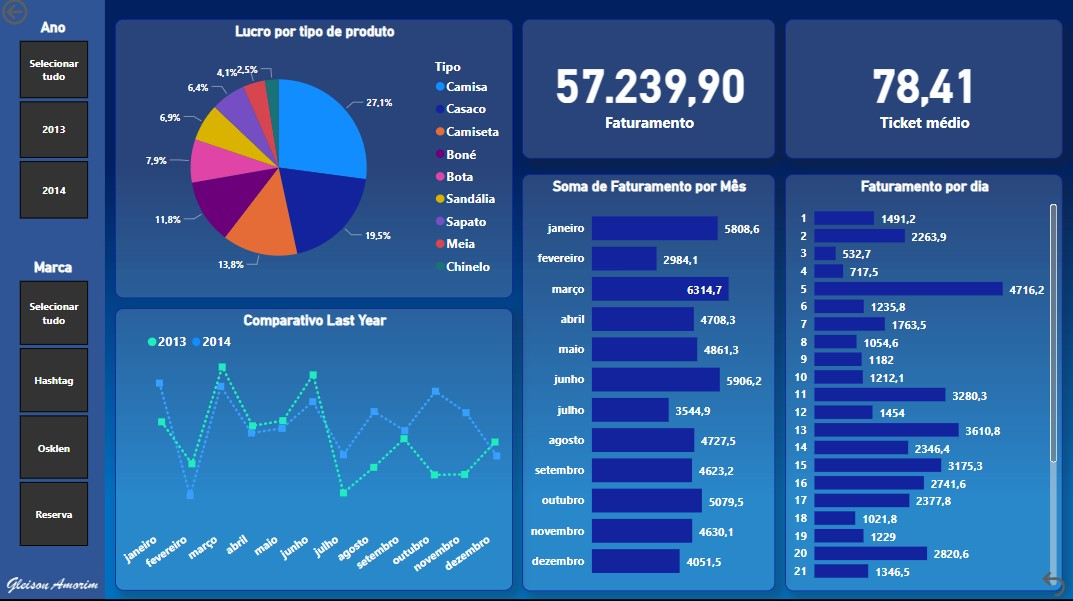

Layout of this report page (visuals, bound fields, positions):
{"tool":"powerbi","page":{"name":"Dash","canvas":[1280,720],"ordinal":1},"visuals":[{"type":"clusteredBarChart","fields":{"Category":["Vendas.Dia.Variation.Hierarquia de datas.Mês"],"Y":["Sum(Vendas.Faturamento)"]},"box":[622.8,212.7,300.7,495.6],"z":0},{"type":"clusteredBarChart","fields":{"Category":["Vendas.Dia.Variation.Hierarquia de datas.Dia"],"Y":["Sum(Vendas.Faturamento)"]},"box":[935.3,212.7,330.4,495.6],"z":1000},{"type":"slicer","title":"Ano","fields":{"Values":["Vendas.Dia.Variation.Hierarquia de datas.Ano"]},"box":[0,28.5,130.7,243.6],"z":2000},{"type":"lineChart","fields":{"Category":["Vendas.Dia.Variation.Hierarquia de datas.Mês","Vendas.Dia.Variation.Hierarquia de datas.Ano"],"Y":["Sum(Vendas.Faturamento)"]},"box":[172.3,429,439.7,187.8],"z":3000},{"type":"lineChart","title":"Comparativo Last Year","fields":{"Y":["Sum(Vendas.Faturamento)"],"Category":["Vendas.Dia.Variation.Hierarquia de datas.Mês"]},"box":[139.1,372,473,336.3],"z":4000},{"type":"pieChart","fields":{"Category":["Vendas.Dia.Variation.Hierarquia de datas.Ano"]},"box":[155.7,391,147.4,47.5],"z":5000},{"type":"pieChart","title":"Lucro por tipo de produto","fields":{"Category":["Vendas.Tipo"],"Y":["Sum(Vendas.Lucro)"]},"box":[139.1,28.5,473,331.6],"z":6000},{"type":"card","fields":{"Values":["Sum(Vendas.Faturamento)"]},"box":[622.8,28.5,300.7,166.4],"z":7000},{"type":"card","fields":{"Values":["Avg(Vendas.Faturamento)"]},"box":[935.3,28.5,330.4,166.4],"z":8000},{"type":"slicer","title":"Marca","fields":{"Values":["Vendas.Marca"]},"box":[0,313.8,130.7,348.2],"z":9000},{"type":"actionButton","box":[0,0,100,40],"z":10000},{"type":"actionButton","box":[1234.8,679.8,45.2,40.4],"z":11000}]}

Visuals, with their boxes in screenshot pixels (x1, y1, x2, y2), scaled from the page's 1280x720 canvas onto the 1073x601 screenshot:
clusteredBarChart - Vendas.Dia.Variation.Hierarquia de datas.Mês x Sum(Vendas.Faturamento): <region>522, 178, 774, 591</region>
clusteredBarChart - Vendas.Dia.Variation.Hierarquia de datas.Dia x Sum(Vendas.Faturamento): <region>784, 178, 1061, 591</region>
"Ano" slicer: <region>0, 24, 110, 227</region>
lineChart - Vendas.Dia.Variation.Hierarquia de datas.Mês x Vendas.Dia.Variation.Hierarquia de datas.Ano: <region>144, 358, 513, 515</region>
"Comparativo Last Year" lineChart: <region>117, 311, 513, 591</region>
pieChart - Vendas.Dia.Variation.Hierarquia de datas.Ano: <region>131, 326, 254, 366</region>
"Lucro por tipo de produto" pieChart: <region>117, 24, 513, 301</region>
card - Sum(Vendas.Faturamento): <region>522, 24, 774, 163</region>
card - Avg(Vendas.Faturamento): <region>784, 24, 1061, 163</region>
"Marca" slicer: <region>0, 262, 110, 553</region>
actionButton: <region>0, 0, 84, 33</region>
actionButton: <region>1035, 567, 1072, 600</region>
